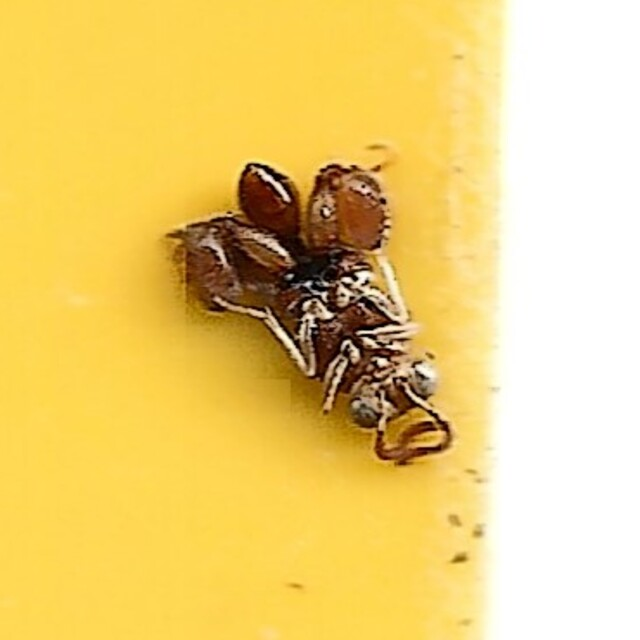Hymenoptera: (173, 162, 467, 478)
